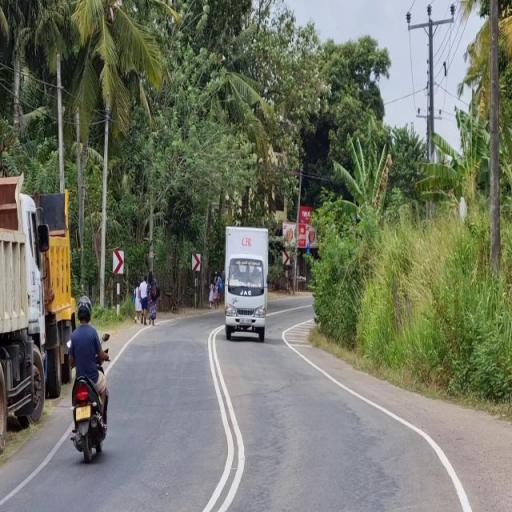double_white_line: (203, 322, 246, 510), (0, 426, 70, 506)
